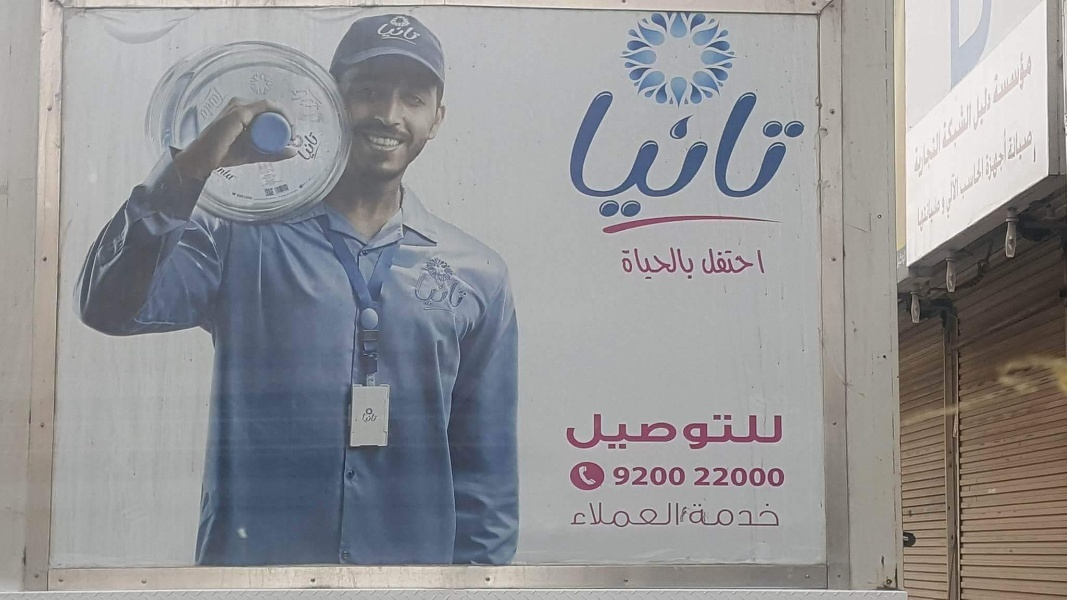text: (801, 88, 817, 224), (593, 88, 608, 224), (609, 88, 624, 224), (625, 88, 640, 224), (641, 88, 656, 224), (657, 88, 672, 224), (673, 88, 688, 224), (689, 88, 704, 224), (705, 88, 720, 224), (721, 88, 736, 224), (737, 88, 752, 224), (753, 88, 768, 224), (769, 88, 784, 224), (785, 88, 800, 224), (581, 88, 592, 224), (993, 46, 1008, 111), (1009, 46, 1024, 111), (945, 100, 960, 159), (993, 126, 1008, 183), (913, 131, 928, 183), (961, 155, 976, 204), (929, 131, 943, 183), (209, 80, 224, 128), (977, 85, 992, 133), (961, 100, 973, 159), (946, 171, 960, 221), (194, 80, 208, 128), (769, 412, 785, 452), (577, 412, 592, 452), (593, 412, 608, 452), (609, 412, 624, 452), (625, 412, 640, 452), (641, 412, 656, 452), (657, 412, 672, 452), (673, 412, 688, 452), (689, 412, 704, 452), (705, 412, 720, 452), (721, 412, 736, 452), (737, 412, 752, 452), (753, 412, 768, 452), (1009, 129, 1024, 168), (417, 274, 432, 312), (433, 274, 448, 312), (449, 274, 464, 312), (289, 85, 304, 122), (305, 85, 320, 122), (929, 195, 943, 234), (1025, 46, 1033, 111), (625, 247, 640, 281), (641, 247, 656, 281), (657, 247, 672, 281), (673, 247, 688, 281), (705, 246, 720, 278), (721, 246, 736, 278), (737, 246, 752, 278), (916, 195, 928, 234), (309, 126, 320, 167), (577, 500, 592, 530), (593, 500, 608, 530), (609, 500, 624, 530), (625, 500, 640, 530), (641, 500, 656, 530), (657, 500, 672, 530), (977, 155, 986, 204), (565, 412, 576, 452), (753, 246, 766, 278), (689, 501, 704, 528), (705, 501, 720, 528), (721, 501, 736, 528), (737, 501, 752, 528), (753, 501, 768, 528), (985, 126, 992, 183), (705, 464, 720, 490), (721, 464, 736, 490), (737, 464, 752, 490), (753, 464, 768, 490), (769, 464, 784, 490), (625, 464, 640, 489), (641, 464, 656, 489), (657, 464, 672, 489), (673, 464, 688, 489), (385, 21, 400, 45), (401, 21, 416, 45), (1025, 129, 1034, 168), (465, 274, 474, 312), (769, 501, 781, 528), (689, 247, 698, 281), (693, 464, 704, 490), (613, 464, 624, 489), (225, 164, 238, 184), (988, 46, 992, 111), (321, 85, 328, 122), (673, 500, 681, 530), (225, 80, 230, 128), (940, 100, 944, 159), (618, 247, 624, 281), (417, 21, 425, 45), (972, 85, 976, 133), (284, 85, 288, 122), (378, 21, 384, 45), (572, 500, 576, 530), (369, 412, 379, 423), (940, 192, 944, 219), (785, 464, 788, 490), (362, 412, 368, 423), (702, 246, 704, 278), (961, 171, 962, 221), (993, 85, 994, 133), (1007, 129, 1008, 168), (415, 274, 416, 312), (945, 192, 946, 219), (689, 464, 690, 489), (223, 164, 224, 184)
